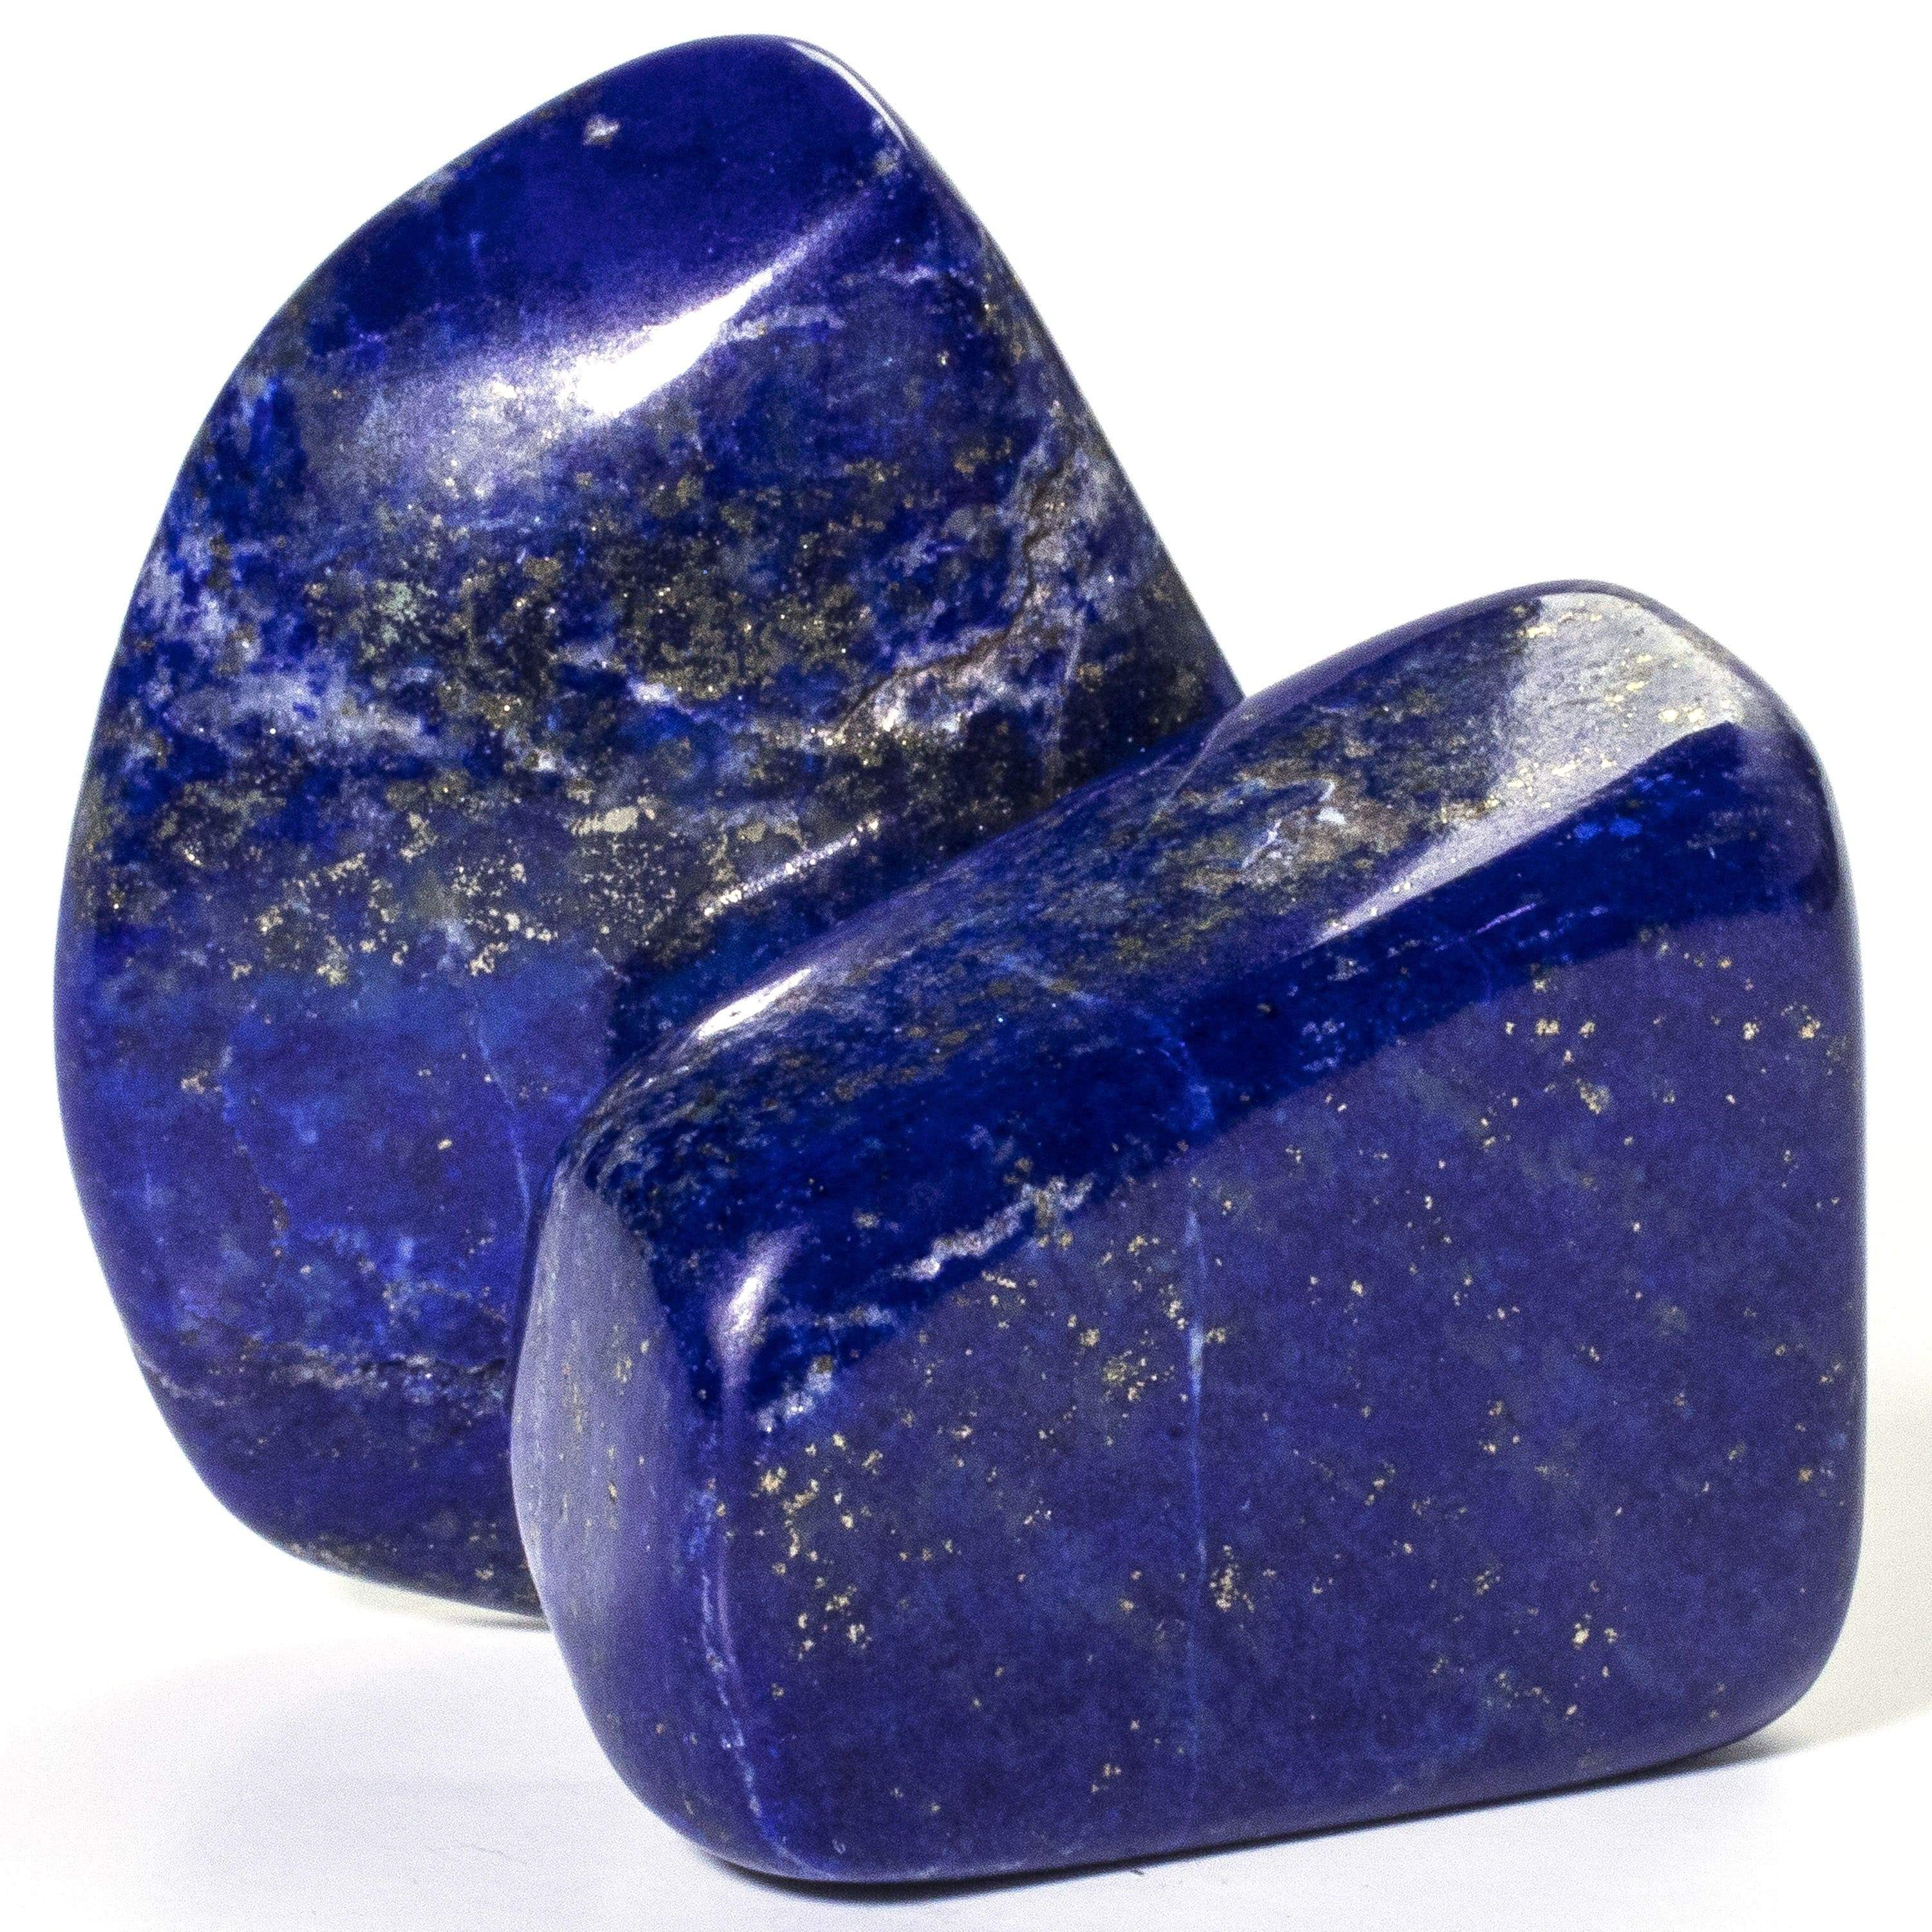Lapis_Lazuli: (497, 571, 1881, 1893)
